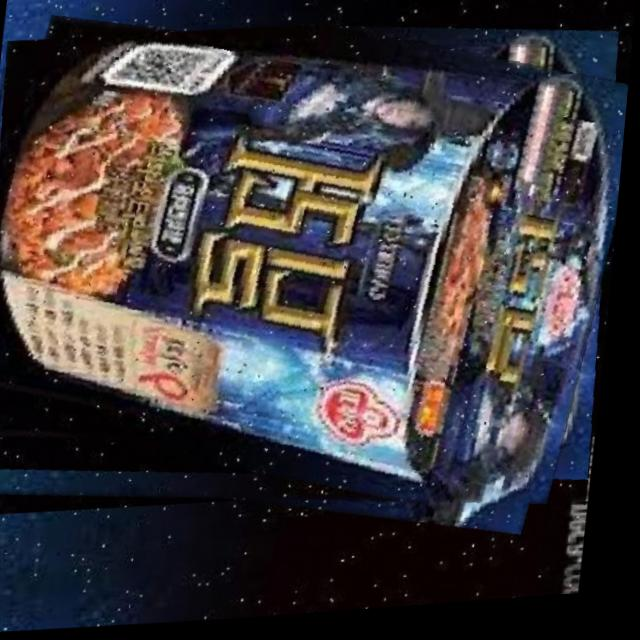Miscellaneous: (0, 4, 637, 552)
